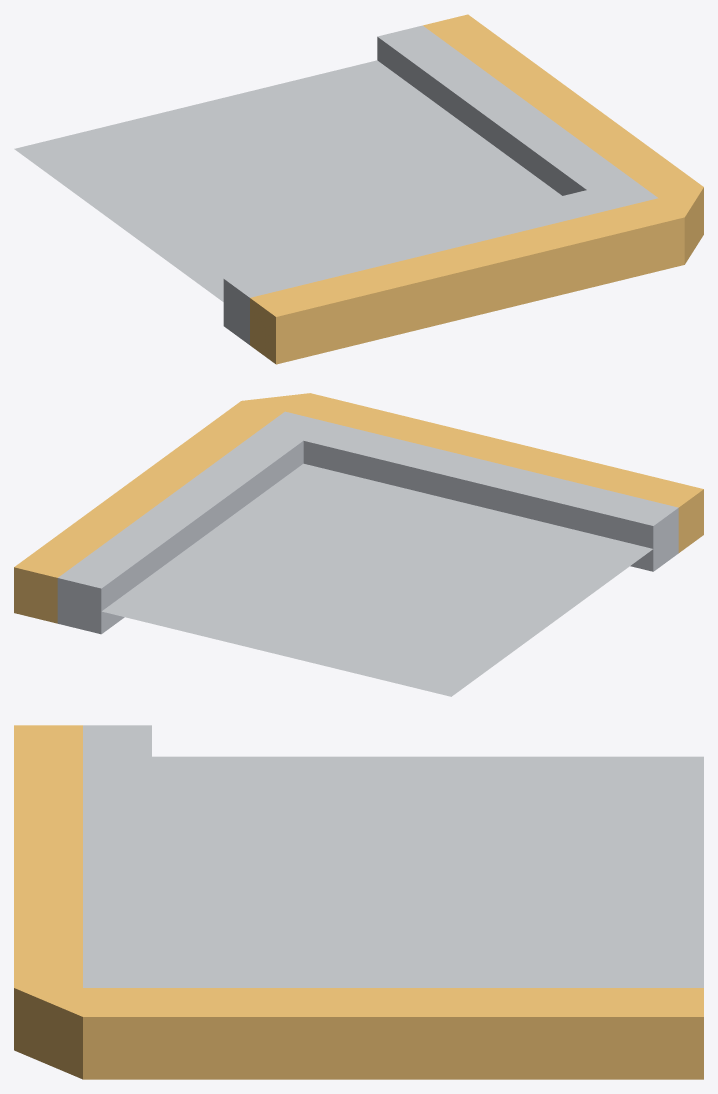
The model's file is platform-corneropen.glb.
The picture shows the model from 3 angles, top to bottom: view 1: azimuth 30°, elevation 25°; view 2: azimuth 150°, elevation 25°; view 3: azimuth 270°, elevation 25°; orthographic projection. The views are drawn at different scales.
Visible parts, largest first — view 1: platform_cornerOpen; view 2: platform_cornerOpen; view 3: platform_cornerOpen.
Part boxes in pixels (x1,y1,x2,y2): platform_cornerOpen: (14,14,703,364); platform_cornerOpen: (14,393,703,696); platform_cornerOpen: (14,725,703,1079).
Size of the model in its own units: 1 by 0.1 by 1.
